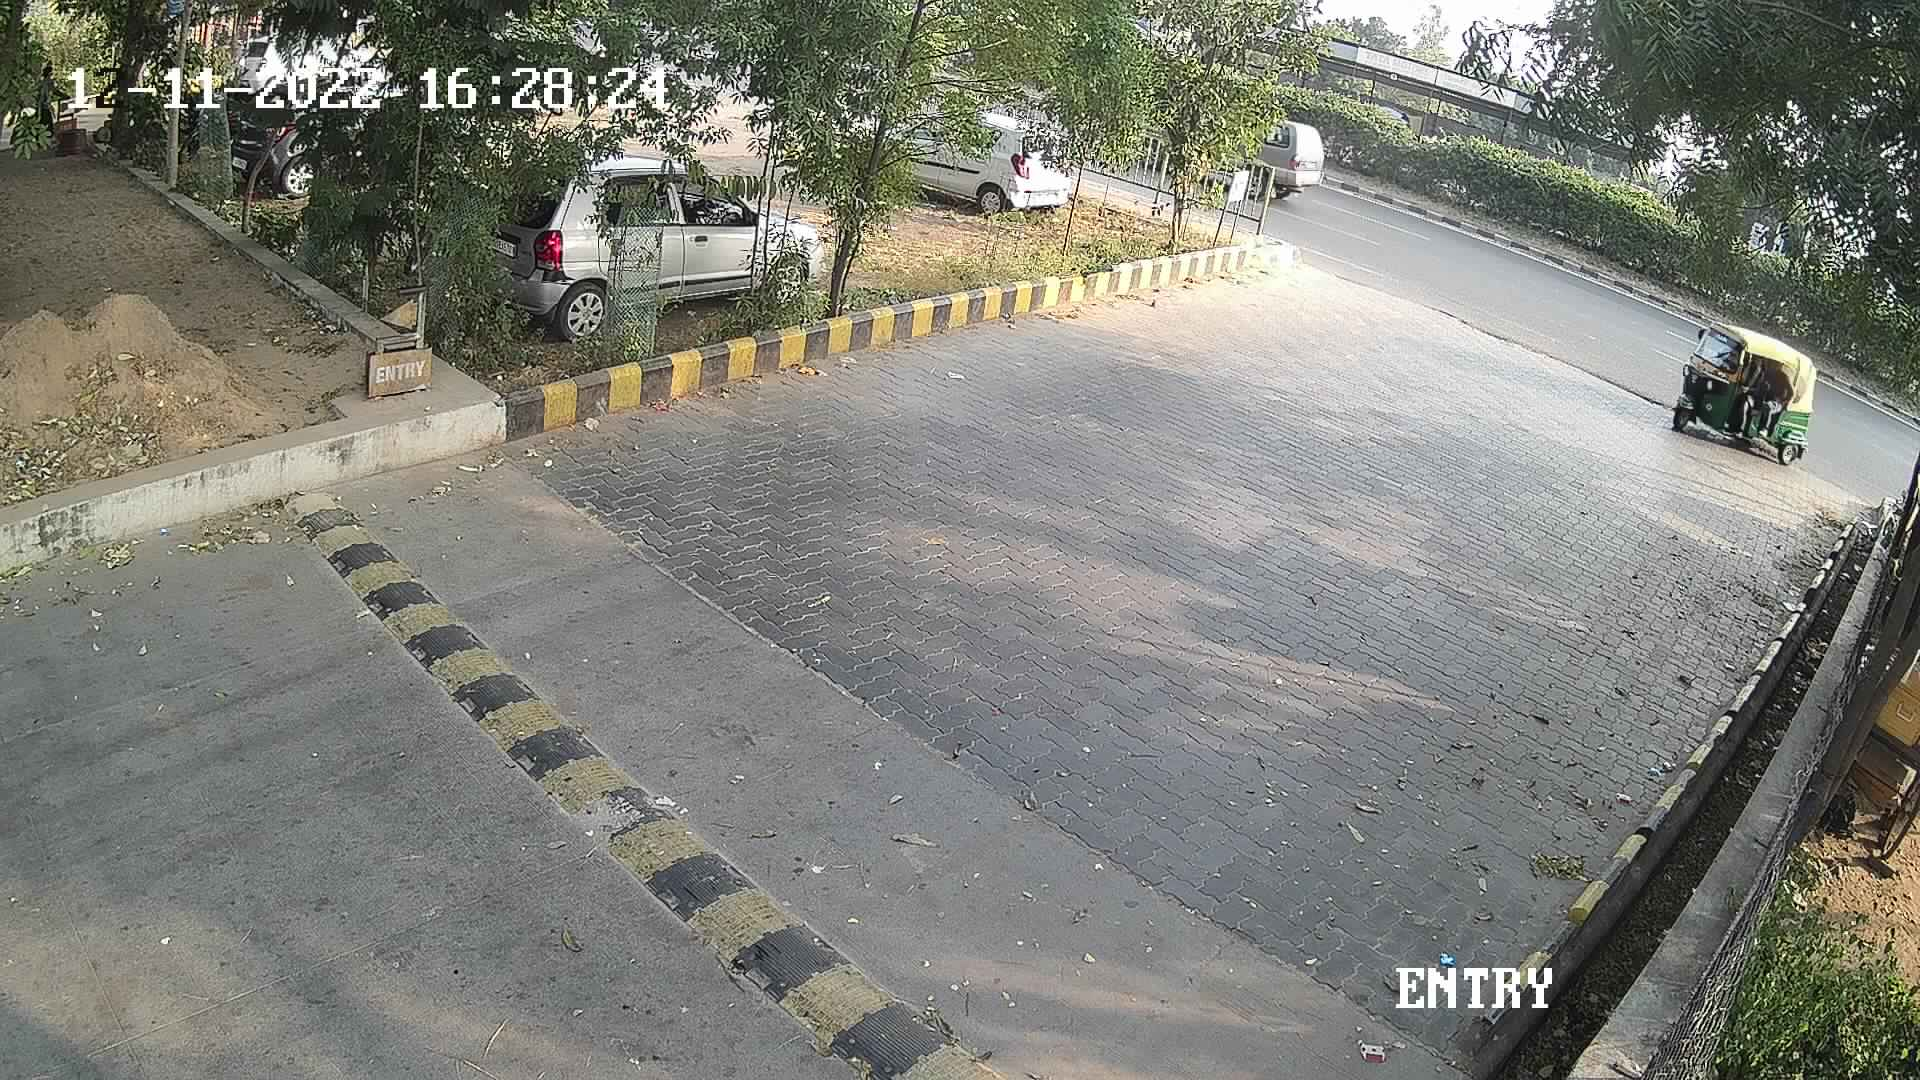Auto: (1656, 309, 1824, 469)
Car: (440, 146, 825, 344), (823, 90, 1085, 218), (1233, 109, 1327, 214)
